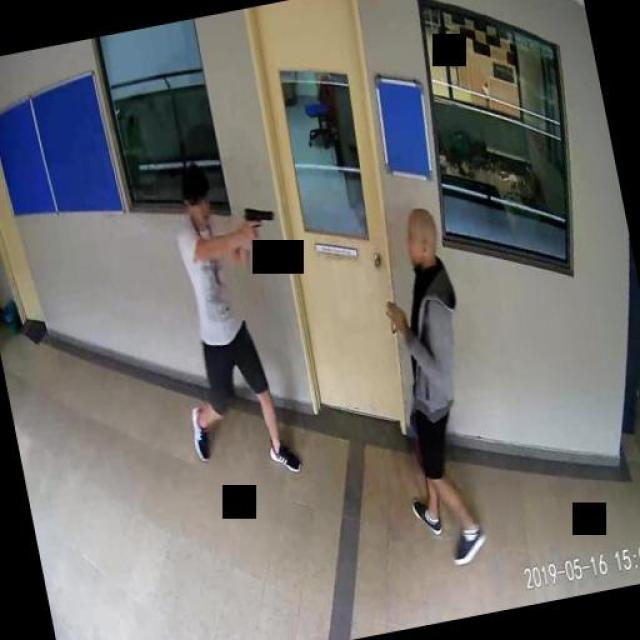gun: (242, 200, 276, 240)
